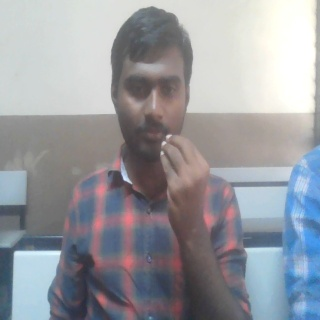Food: (154, 130, 212, 244)
